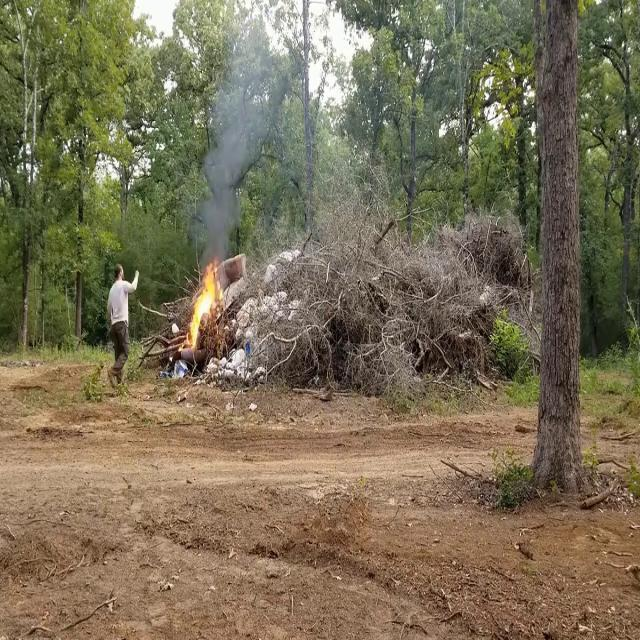Fire: (187, 258, 224, 346)
Smoke: (197, 9, 270, 260)
